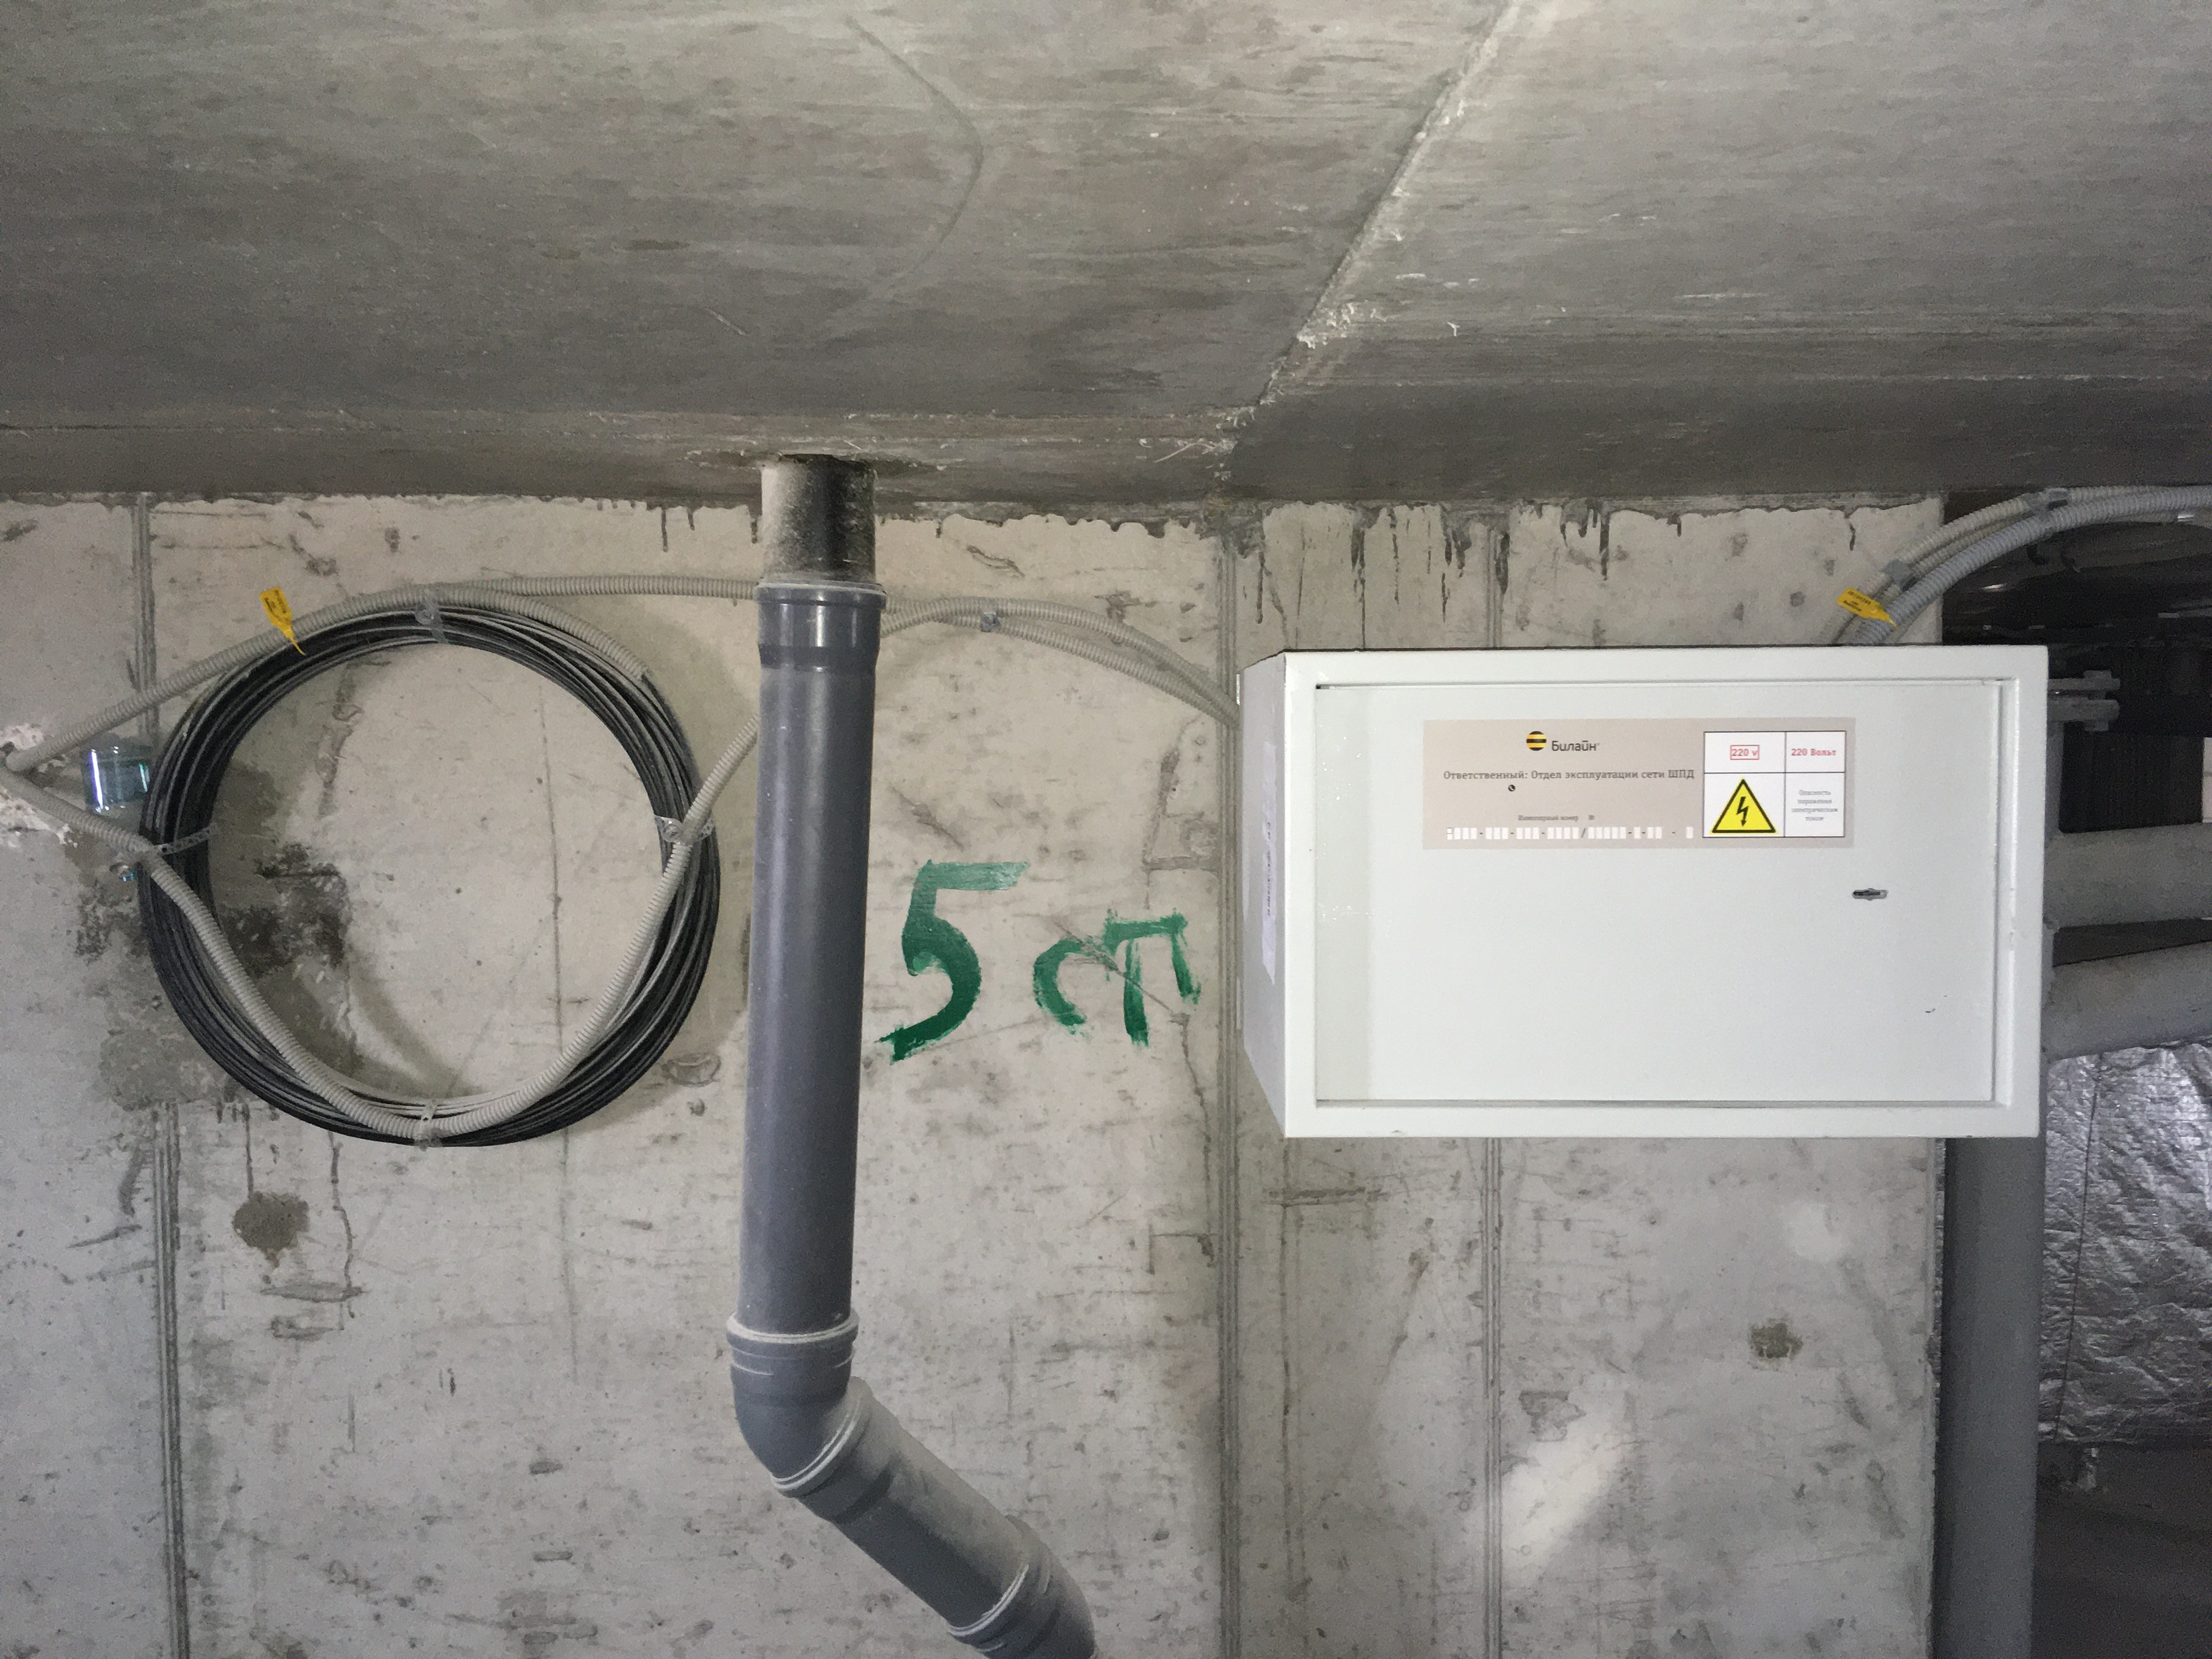shta-7m: (1219, 634, 2054, 1147)
